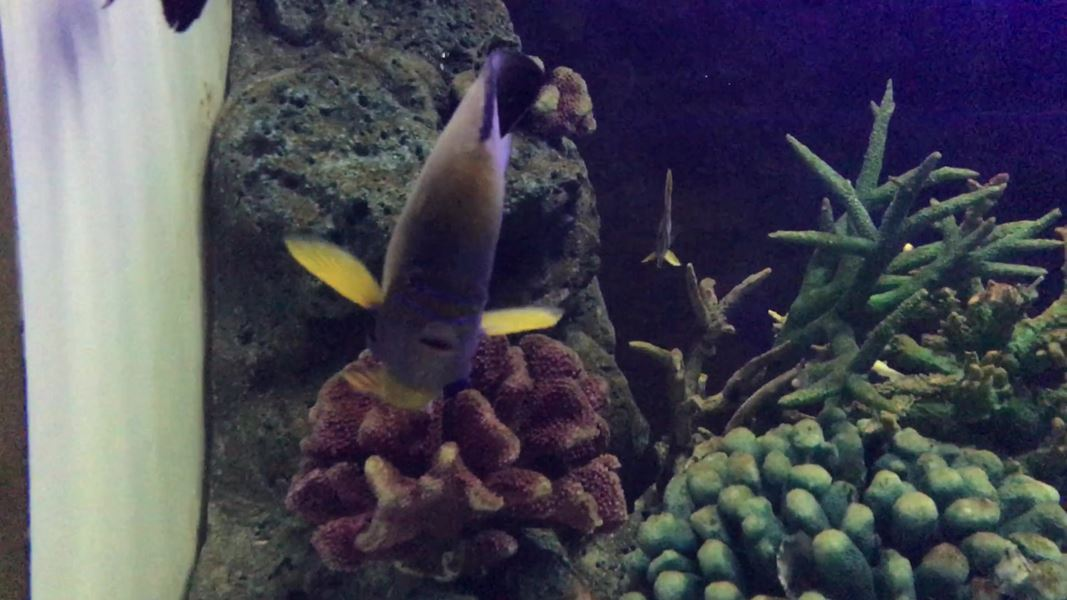Blue ring angelfish: (253, 23, 594, 430)
